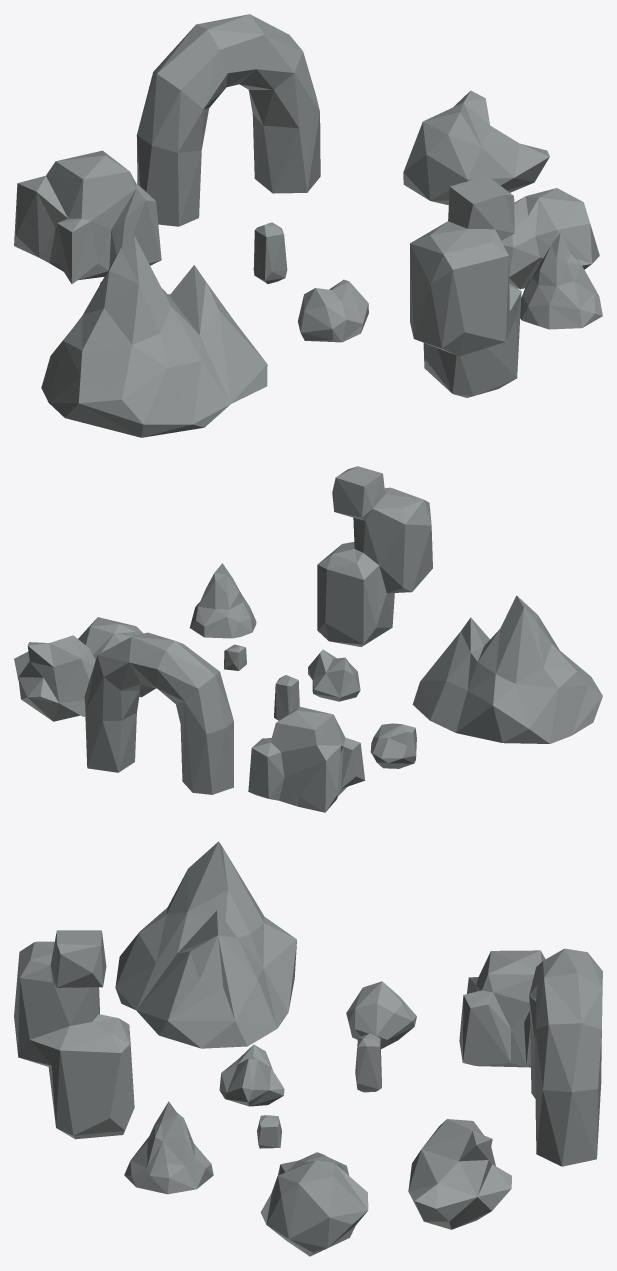
Rendered from AllRock.fbx.
The picture shows the model from 3 angles, top to bottom: view 1: azimuth 30°, elevation 25°; view 2: azimuth 150°, elevation 25°; view 3: azimuth 270°, elevation 25°; orthographic projection. The views are drawn at different scales.
Visible parts, largest first — view 1: Rock10, Rock11, Rock6, Rock5, Rock3, Rock9, Rock12, Rock2, Rock8; view 2: Rock10, Rock11, Rock6, Rock5, Rock3, Rock12, Rock2, Rock1, Rock9, Rock8, Rock7; view 3: Rock10, Rock6, Rock11, Rock3, Rock5, Rock9, Rock12, Rock1, Rock2, Rock8, Rock7.
Part boxes in pixels (box(x1,y1,x2,y2)): Rock10: box(41, 235, 267, 437); Rock11: box(136, 14, 320, 226); Rock6: box(410, 175, 521, 397); Rock5: box(14, 150, 161, 284); Rock3: box(403, 90, 549, 205); Rock9: box(501, 188, 599, 289); Rock12: box(520, 233, 602, 329); Rock2: box(298, 279, 368, 342); Rock8: box(253, 222, 287, 283); Rock10: box(412, 595, 602, 743); Rock11: box(84, 632, 233, 794); Rock6: box(317, 466, 432, 646); Rock5: box(248, 706, 365, 812); Rock3: box(14, 635, 95, 721); Rock12: box(189, 563, 256, 638); Rock2: box(308, 649, 360, 701); Rock1: box(370, 723, 416, 768); Rock9: box(78, 617, 155, 697); Rock8: box(274, 675, 299, 720); Rock7: box(224, 644, 246, 670); Rock10: box(115, 841, 296, 1048); Rock6: box(14, 930, 134, 1139); Rock11: box(529, 948, 602, 1166); Rock3: box(408, 1119, 511, 1229); Rock5: box(459, 950, 545, 1067); Rock9: box(260, 1152, 368, 1256); Rock12: box(124, 1101, 213, 1194); Rock1: box(346, 981, 416, 1048); Rock2: box(219, 1044, 284, 1106); Rock8: box(355, 1033, 381, 1092); Rock7: box(257, 1115, 281, 1148).
Size of the model in its own units: 781 by 289 by 681.
